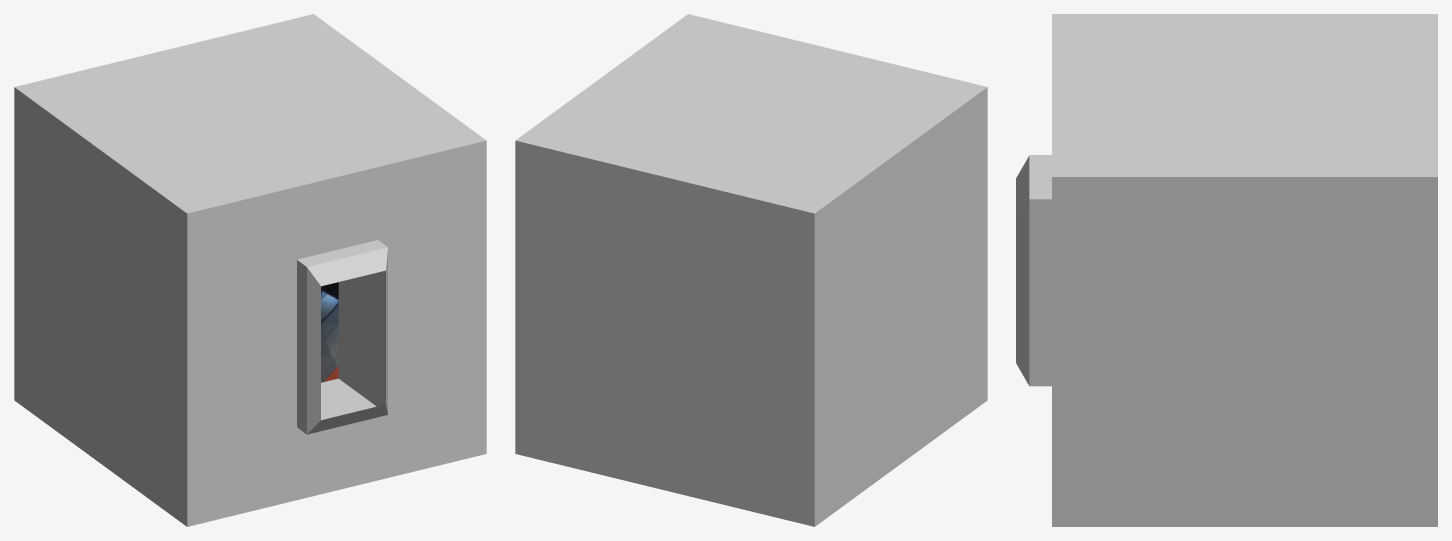
Rendered from 360_sphere_full_Door.fbx.
The picture shows the model from 3 angles, left to right: view 1: azimuth 30°, elevation 25°; view 2: azimuth 150°, elevation 25°; view 3: azimuth 270°, elevation 25°; orthographic projection. The views are drawn at different scales.
Visible parts, largest first — view 1: Cube, Cube.001, Plane; view 2: Cube; view 3: Cube, Cube.001.
Part boxes in pixels (bbox=[...]): Cube: bbox=[14, 14, 486, 526]; Cube.001: bbox=[297, 240, 387, 434]; Plane: bbox=[321, 282, 338, 382]; Cube: bbox=[515, 14, 987, 526]; Cube: bbox=[1052, 14, 1437, 526]; Cube.001: bbox=[1016, 155, 1051, 386].
Size of the model in its own units: 620 by 620 by 678.
1 material, 1 textured.
